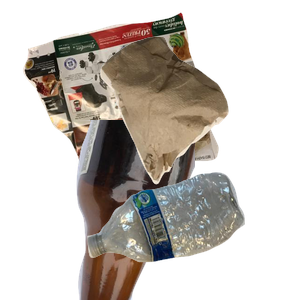glass: (60, 120, 300, 300)
paper: (20, 10, 231, 190)
plastic: (85, 170, 300, 300)
trash: (98, 34, 300, 211)
